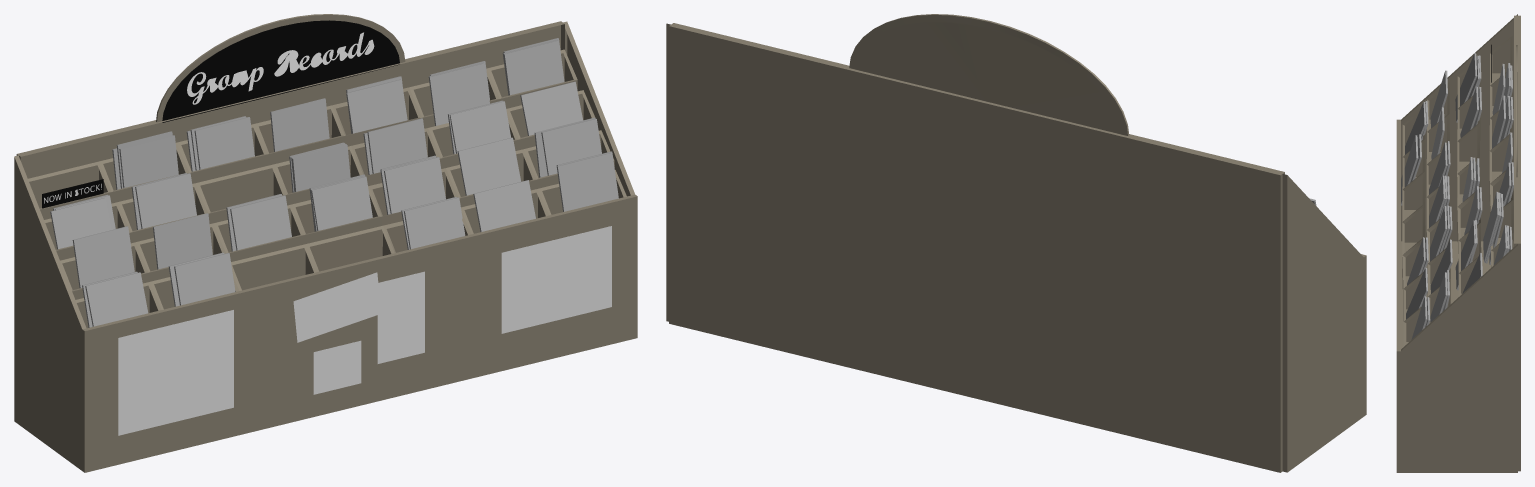
Rendered from RS_Casing1_03_DF.fbx.
3 renders of one model, left to right at view 1: azimuth 30°, elevation 25°; view 2: azimuth 150°, elevation 25°; view 3: azimuth 270°, elevation 25°, orthographic. The views are drawn at different scales.
Parts seen in each view (by area): view 1: polySurface570; view 2: polySurface570; view 3: polySurface570.
Boxes of the visible parts, <box> form: polySurface570: <box>14,14,637,472</box>; polySurface570: <box>666,14,1366,472</box>; polySurface570: <box>1396,14,1520,472</box>.
Size of the model in its own units: 2.35 by 1.36 by 0.5388.
